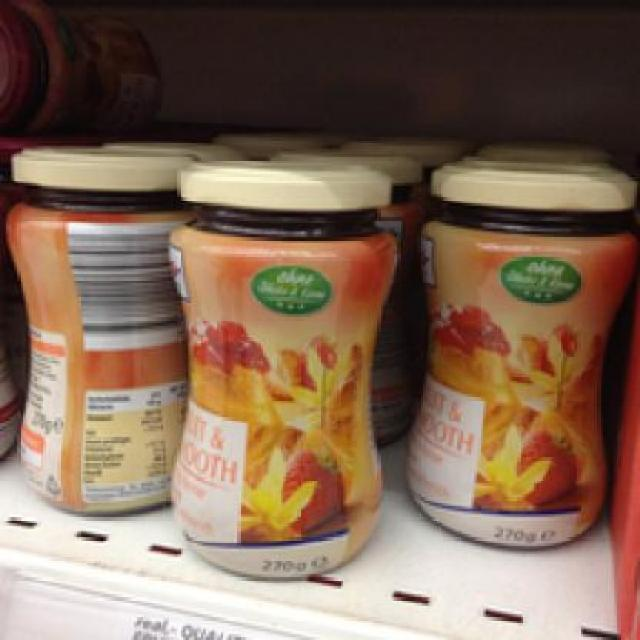Jam: (160, 157, 397, 580), (405, 160, 638, 554), (3, 146, 186, 514)
